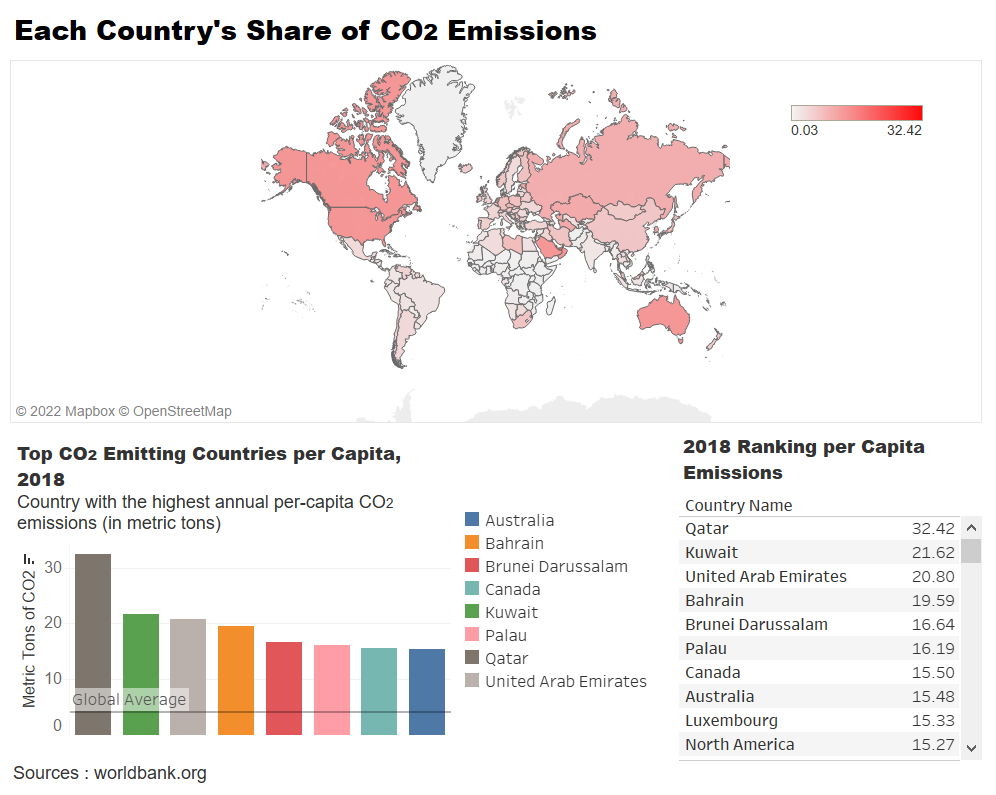

Layout of this report page (visuals, bound fields, positions):
{"tool":"tableau","page":{"name":"Dashboard ","canvas":[1000,800],"ordinal":0},"visuals":[{"type":"worksheet","title":"CO2 Emissions Map","mark":"Automatic","box":[10,11,972,417]},{"type":"legend","title":"CO2 Emissions Map","param":"[federated.0521jxy0y0x08h1cvs9jx1biuhds].[sum:2018:qk]","box":[787,106,140,73]},{"type":"worksheet","title":"Top CO2 Emitting Countries per Capita","mark":"Automatic","rows":["2018"],"cols":["Country Name"],"box":[13,441,438,299]},{"type":"legend","title":"Top CO2 Emitting Countries per Capita","param":"[federated.0521jxy0y0x08h1cvs9jx1biuhds].[none:Country Name:nk]","box":[461,513,191,253]},{"type":"worksheet","title":"Sources","mark":"Automatic","box":[9,764,205,30]}]}

Visuals, with their boxes in screenshot pixels (x1, y1, x2, y2), scaled from the page's 1000x800 canvas onto the 996x795 screenshot:
"CO2 Emissions Map" worksheet: bbox=(10, 11, 978, 425)
"CO2 Emissions Map" legend: bbox=(784, 105, 923, 178)
"Top CO2 Emitting Countries per Capita" worksheet: bbox=(13, 438, 449, 735)
"Top CO2 Emitting Countries per Capita" legend: bbox=(459, 510, 649, 761)
"Sources" worksheet: bbox=(9, 759, 213, 789)
